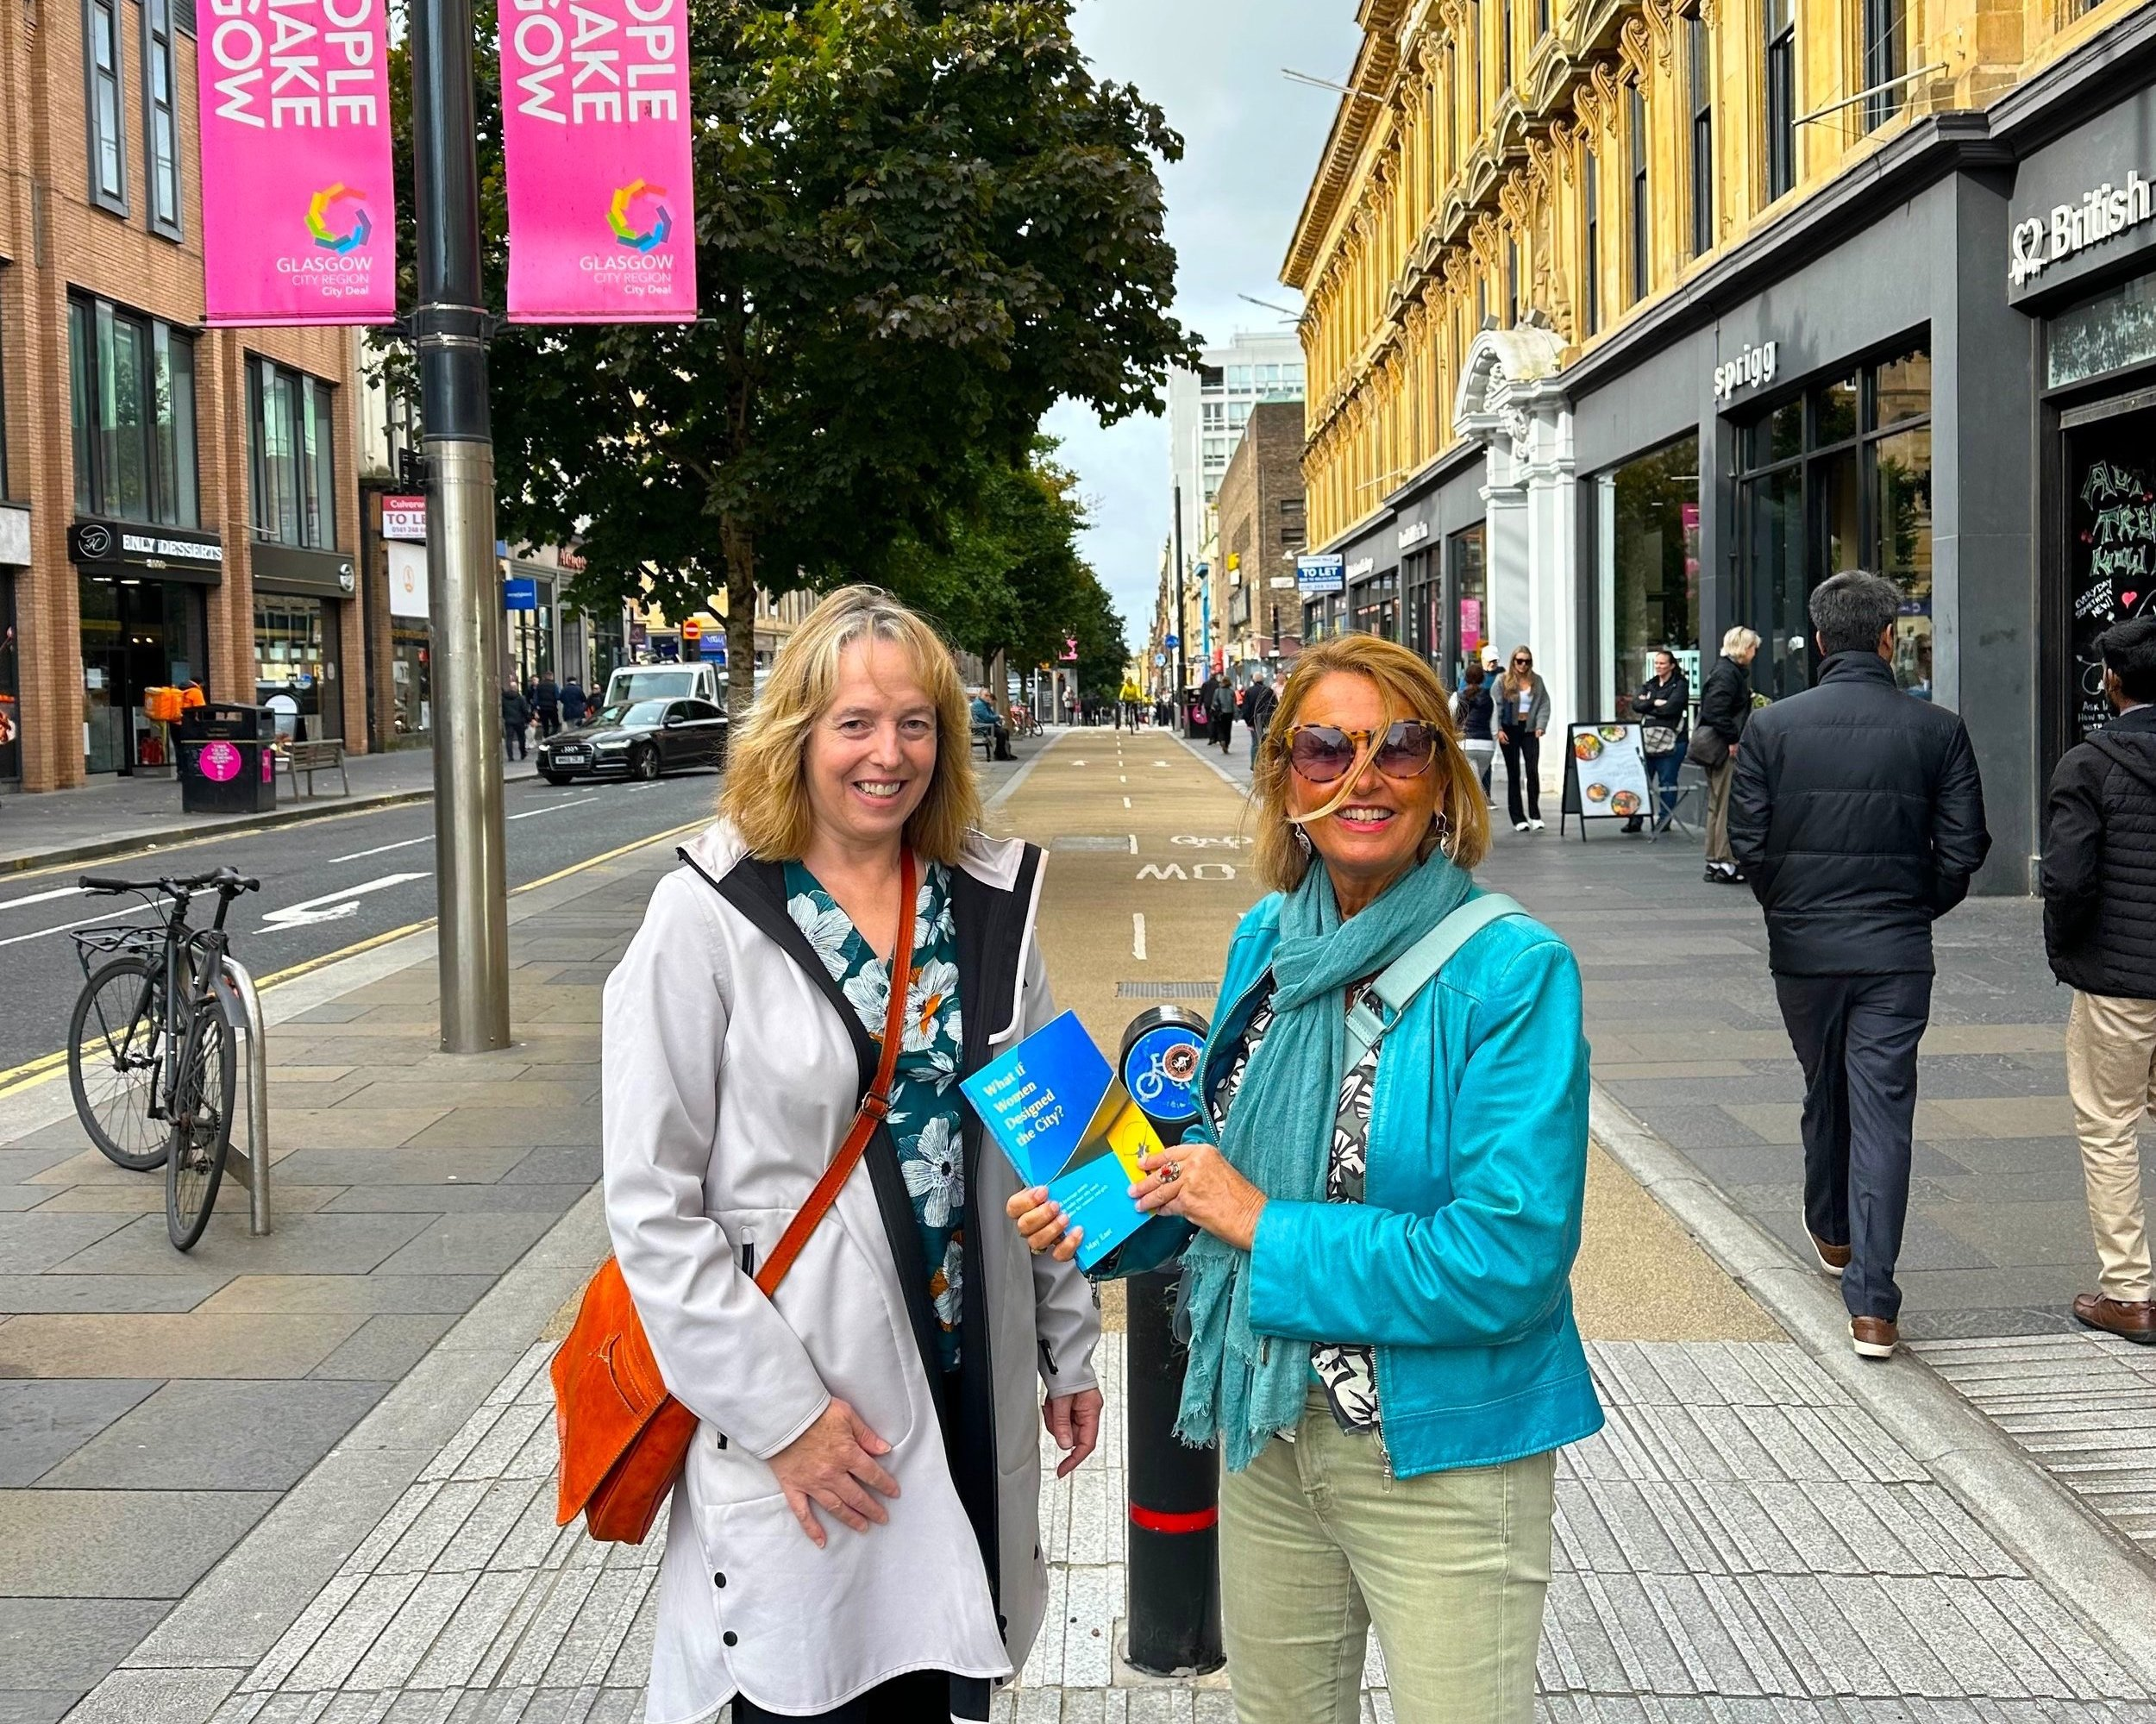person: (548, 559, 1119, 1724), (1000, 652, 1611, 1724), (1716, 551, 2002, 1375), (2028, 586, 2156, 1365), (1695, 617, 1770, 899), (1483, 630, 1564, 836), (1633, 637, 1695, 838)
